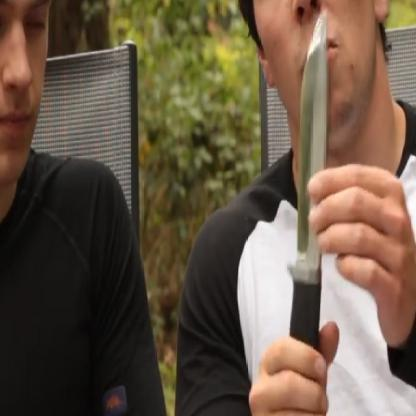knife: (276, 0, 338, 382)
